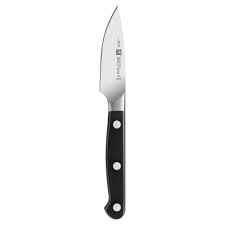knife: (97, 2, 128, 220)
